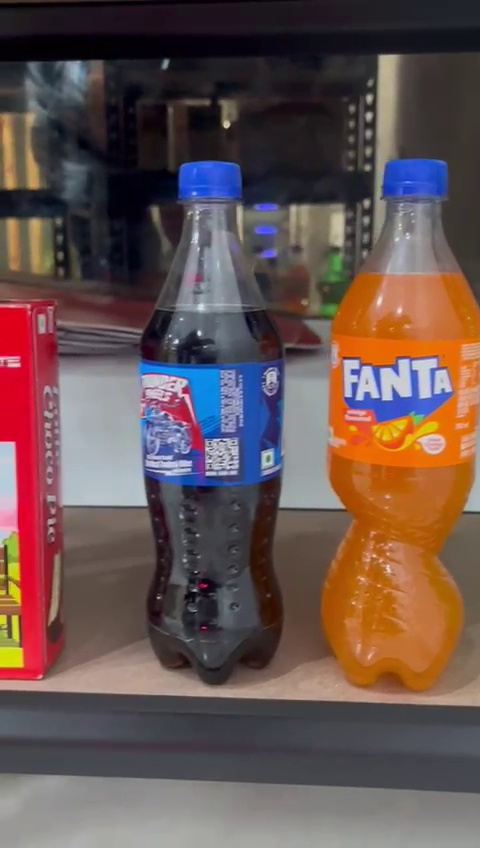Fanta: (322, 156, 480, 691)
Thums-up: (141, 165, 291, 679)
